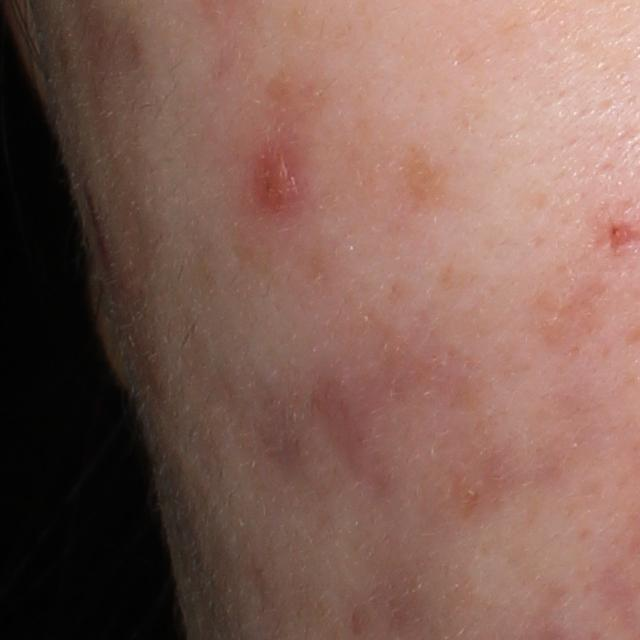papule: (254, 150, 305, 208)
